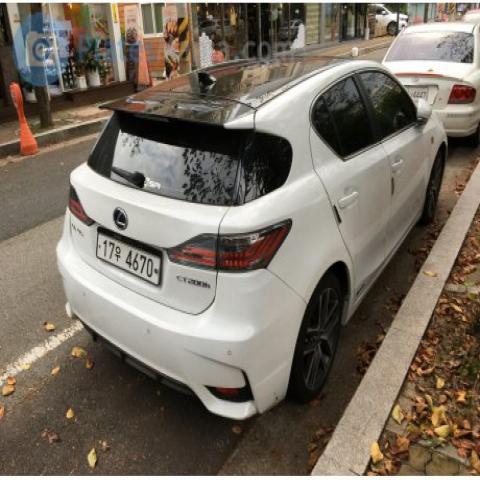LP: (82, 220, 175, 288)
